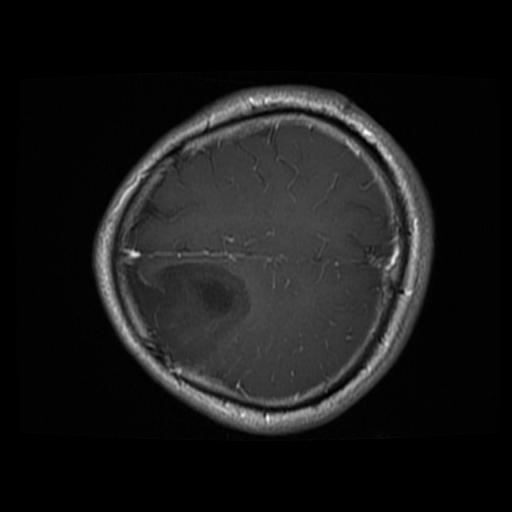glioma: (132, 262, 251, 365)
